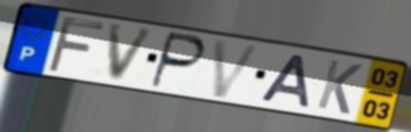A: (257, 52, 312, 110)
F: (44, 14, 107, 75)
K: (314, 57, 365, 117)
P: (147, 30, 209, 91)
V: (210, 37, 265, 100), (106, 23, 158, 83)
